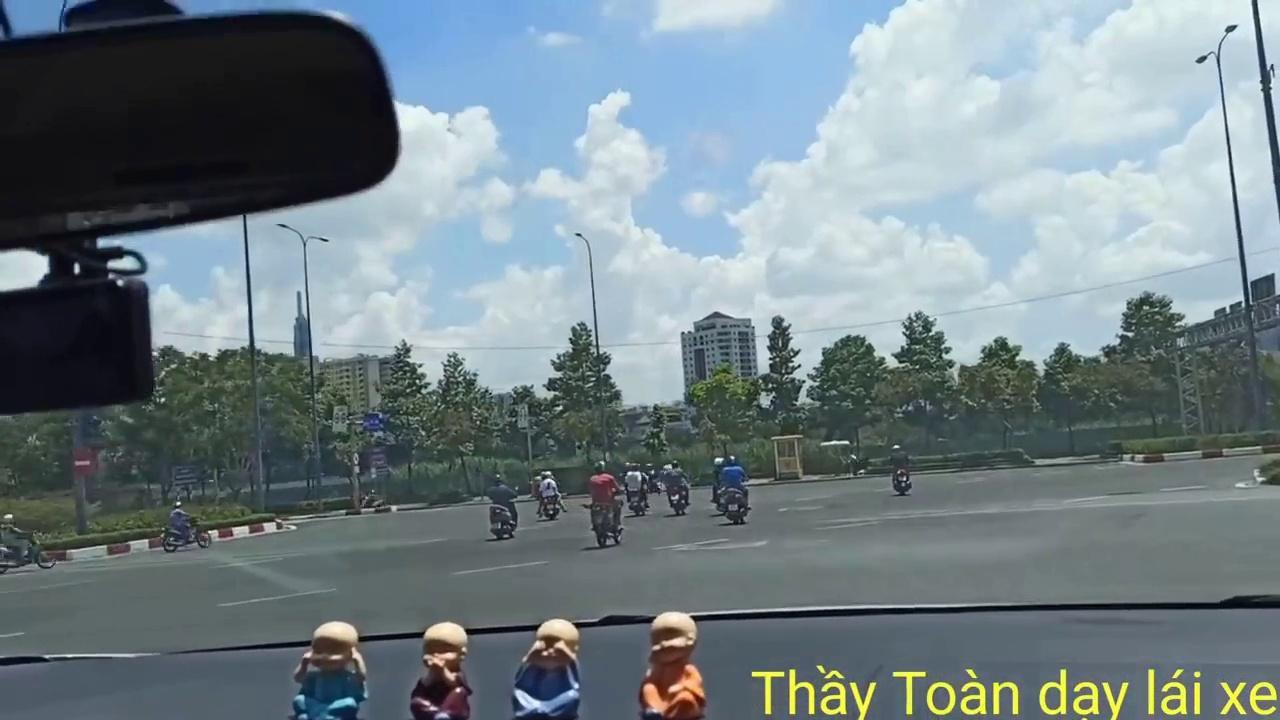Cấm cac phương tiện hoạt động trong khung giờ cố định: (333, 404, 348, 433)
Cấm đi ngược chiều: (70, 446, 98, 478)
